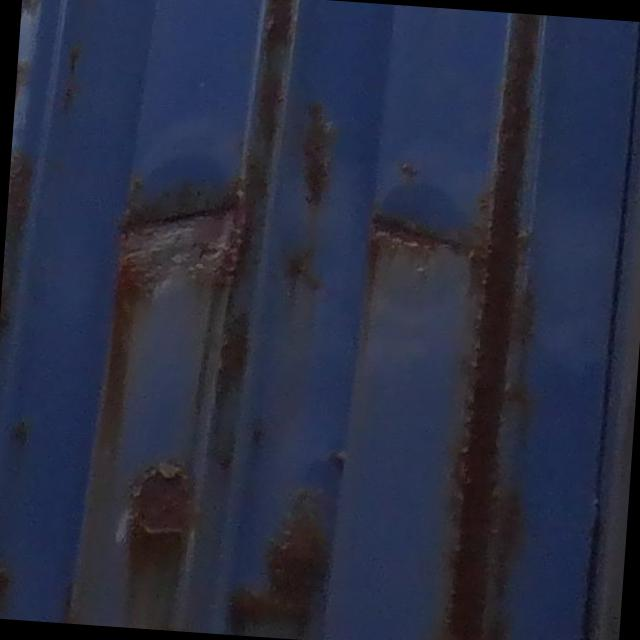Rust: (0, 156, 508, 376)
